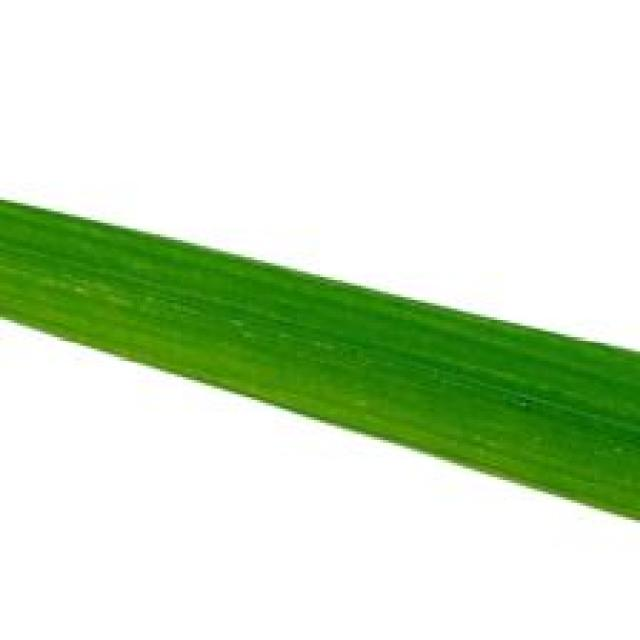Rice___Healthy_Rice_Plant: (0, 197, 637, 525)
